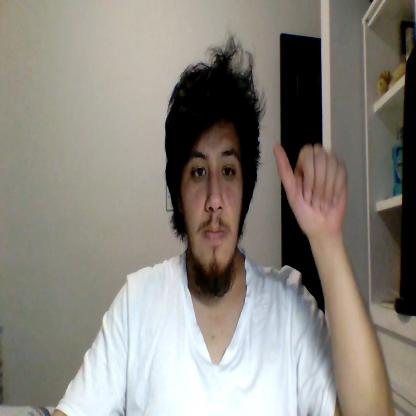A: (274, 142, 348, 232)
